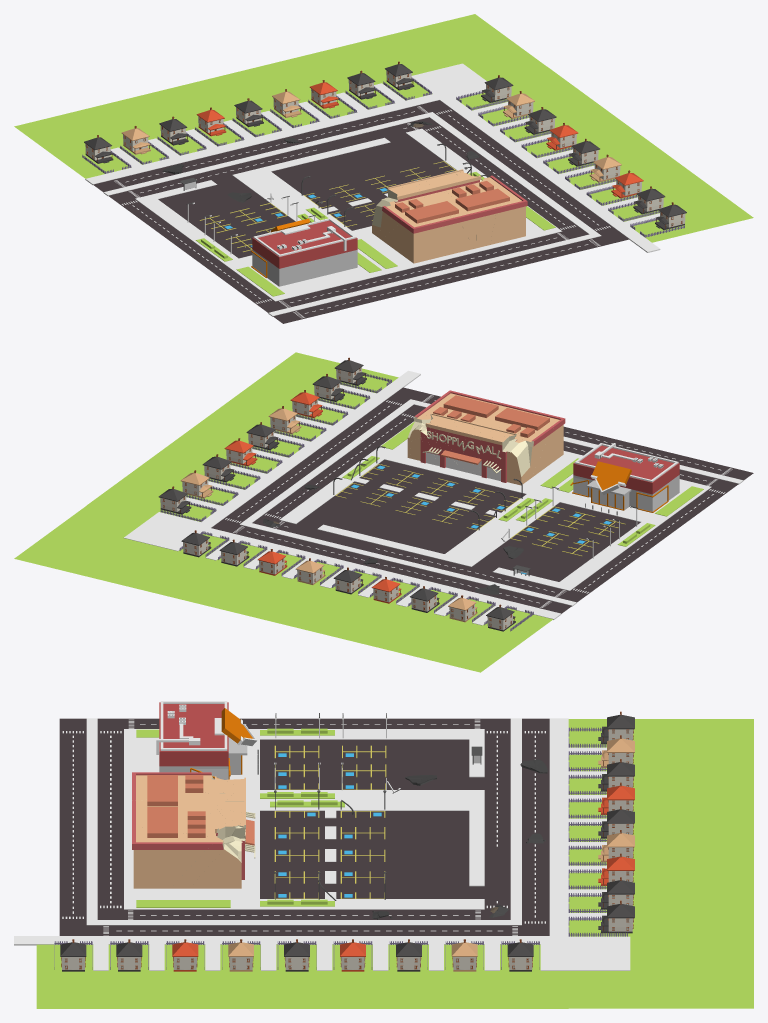
File: ShoppingMallScene.fbx
3 views of the same model, one above another, from view 1: azimuth 30°, elevation 25°; view 2: azimuth 150°, elevation 25°; view 3: azimuth 270°, elevation 25° (orthographic). The views are drawn at different scales.
Parts seen in each view (by area): view 1: Environment, Mall, bina.001, House1.017, House1.013, House1.011, House1.009, House1.014, House1.015, House1.016, House1.012, House1.010 (+9 smaller); view 2: Environment, Mall, bina.001, House1.011, House1.013, House1.009, House1.010, House1.012, House1.014, House1.015, House1.016, House1.017 (+9 smaller); view 3: Environment, Mall, bina.001, House1.008, House1, House1.003, House1.004, House1.001, House1.006, House1.007, House1.002, House1.005 (+9 smaller).
Part boxes in pixels (x1=…): Environment: x1=14, y1=14, x2=753, y2=323; Mall: x1=372, y1=169, x2=527, y2=263; bina.001: x1=251, y1=218, x2=357, y2=286; House1.017: x1=655, y1=202, x2=686, y2=229; House1.013: x1=568, y1=138, x2=599, y2=166; House1.011: x1=481, y1=75, x2=513, y2=102; House1.009: x1=524, y1=107, x2=556, y2=134; House1.014: x1=589, y1=154, x2=621, y2=182; House1.015: x1=611, y1=170, x2=643, y2=198; House1.016: x1=633, y1=186, x2=665, y2=214; House1.012: x1=546, y1=123, x2=578, y2=150; House1.010: x1=503, y1=91, x2=534, y2=118; Environment: x1=14, y1=352, x2=753, y2=672; Mall: x1=407, y1=390, x2=565, y2=485; bina.001: x1=570, y1=443, x2=679, y2=512; House1.011: x1=158, y1=486, x2=191, y2=514; House1.013: x1=246, y1=422, x2=279, y2=450; House1.009: x1=202, y1=454, x2=235, y2=482; House1.010: x1=180, y1=470, x2=213, y2=498; House1.012: x1=224, y1=438, x2=257, y2=466; House1.014: x1=268, y1=406, x2=301, y2=433; House1.015: x1=290, y1=390, x2=322, y2=417; House1.016: x1=312, y1=374, x2=344, y2=401; House1.017: x1=334, y1=357, x2=366, y2=385; Environment: x1=14, y1=713, x2=753, y2=1008; Mall: x1=132, y1=772, x2=255, y2=888; bina.001: x1=156, y1=701, x2=257, y2=779; House1.008: x1=598, y1=900, x2=634, y2=933; House1: x1=598, y1=759, x2=634, y2=791; House1.003: x1=598, y1=782, x2=634, y2=814; House1.004: x1=598, y1=806, x2=634, y2=838; House1.001: x1=598, y1=735, x2=634, y2=767; House1.006: x1=598, y1=853, x2=634, y2=885; House1.007: x1=598, y1=877, x2=634, y2=909; House1.002: x1=598, y1=711, x2=634, y2=744; House1.005: x1=598, y1=830, x2=634, y2=862.
Bounding box in the file's own units: 61.38 × 5.52 × 66.17.
Materials: 22 (6 with a texture image).
